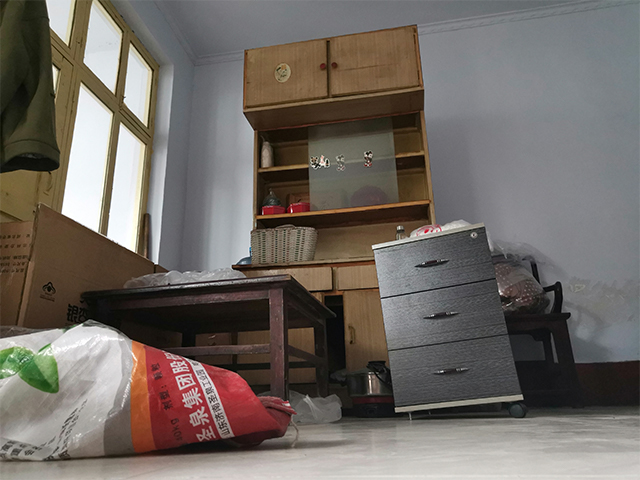cabinet: (369, 221, 530, 421)
table: (78, 271, 341, 423)
